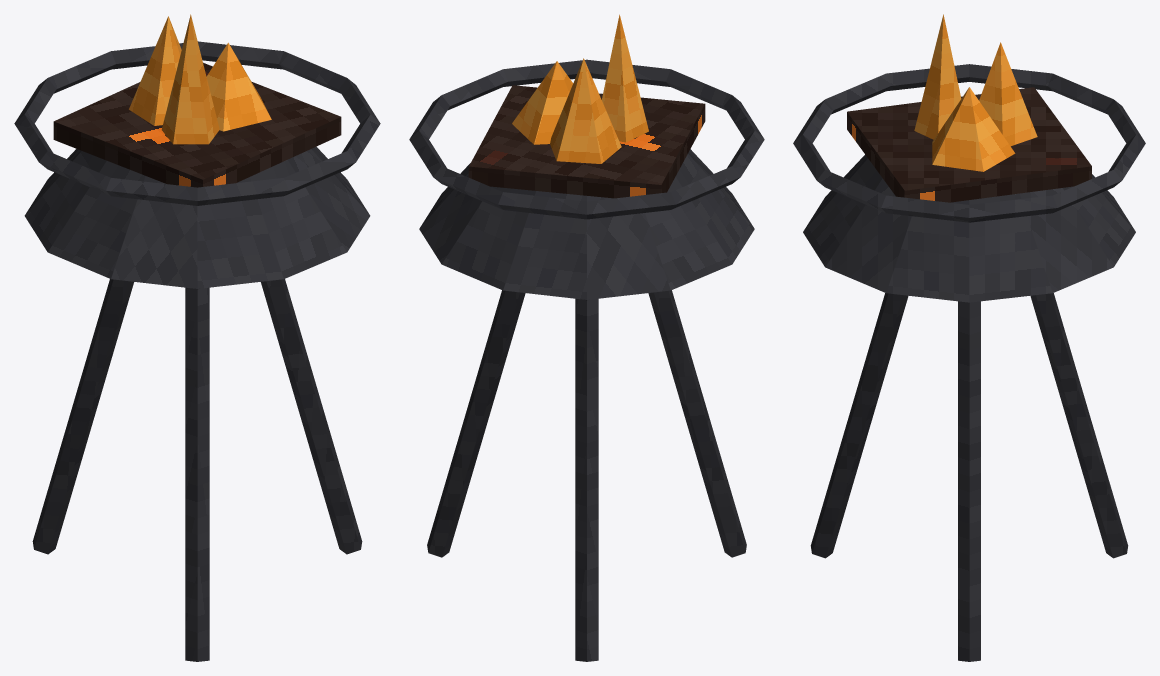
File: fire_bowl.obj
3 views of the same model, side by side, from view 1: azimuth 30°, elevation 25°; view 2: azimuth 150°, elevation 25°; view 3: azimuth 270°, elevation 25° (orthographic). The views are drawn at different scales.
Visible parts, largest first — view 1: fire_bowl; view 2: fire_bowl; view 3: fire_bowl.
Boxes of the visible parts, x1=… form: fire_bowl: x1=14, y1=14, x2=380, y2=661; fire_bowl: x1=409, y1=14, x2=764, y2=661; fire_bowl: x1=793, y1=14, x2=1145, y2=661.
Bounding box in the file's own units: 0.734 × 1.28 × 0.72.
